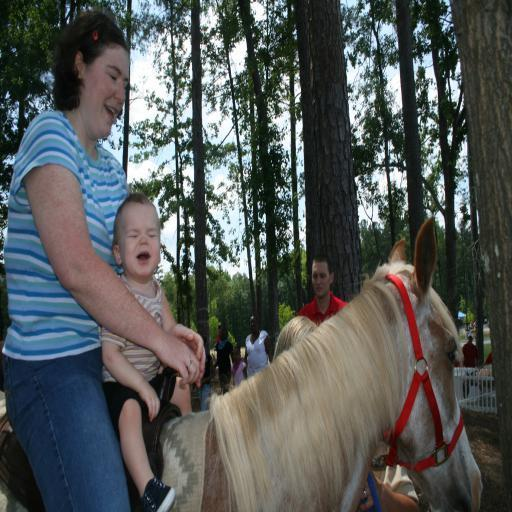horse: (0, 216, 485, 512)
